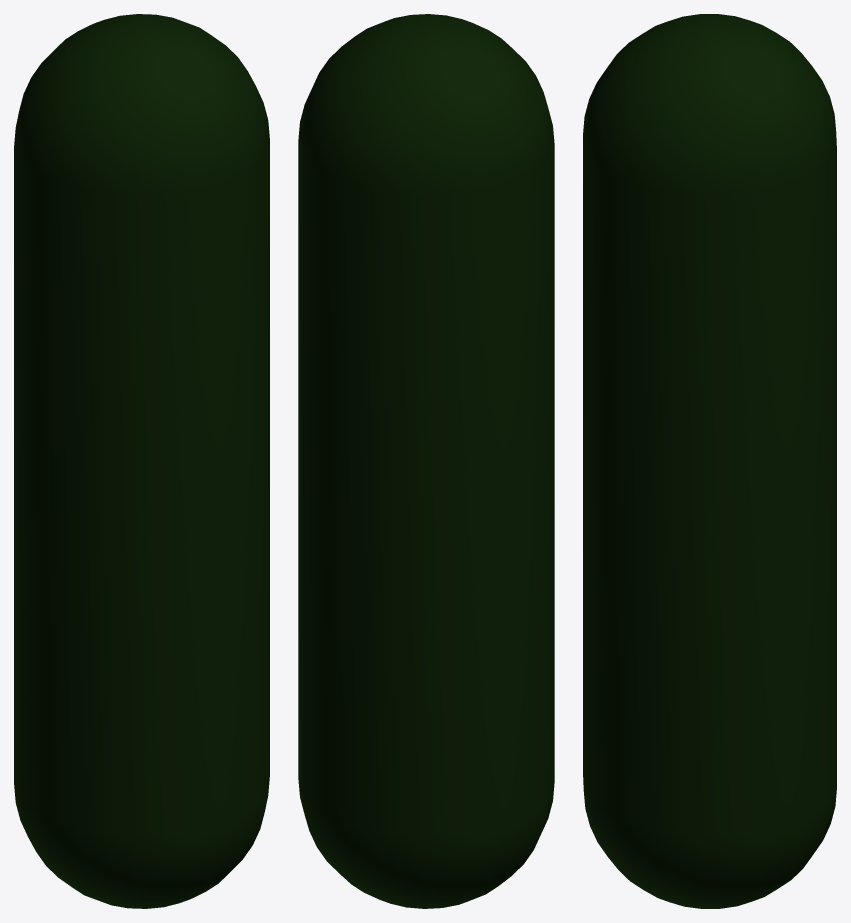
Rendered from Capsule_Auto_Optimized.DAE.
The picture shows the model from 3 angles, left to right: view 1: azimuth 30°, elevation 25°; view 2: azimuth 150°, elevation 25°; view 3: azimuth 270°, elevation 25°; orthographic projection.
Visible parts, largest first — view 1: Capsule01; view 2: Capsule01; view 3: Capsule01.
Part boxes in pixels (left/top/right/bottom): Capsule01: left=14, top=14, right=269, bottom=908; Capsule01: left=298, top=14, right=554, bottom=908; Capsule01: left=583, top=14, right=836, bottom=908.
Size of the model in its own units: 3.96 by 3.96 by 15.
